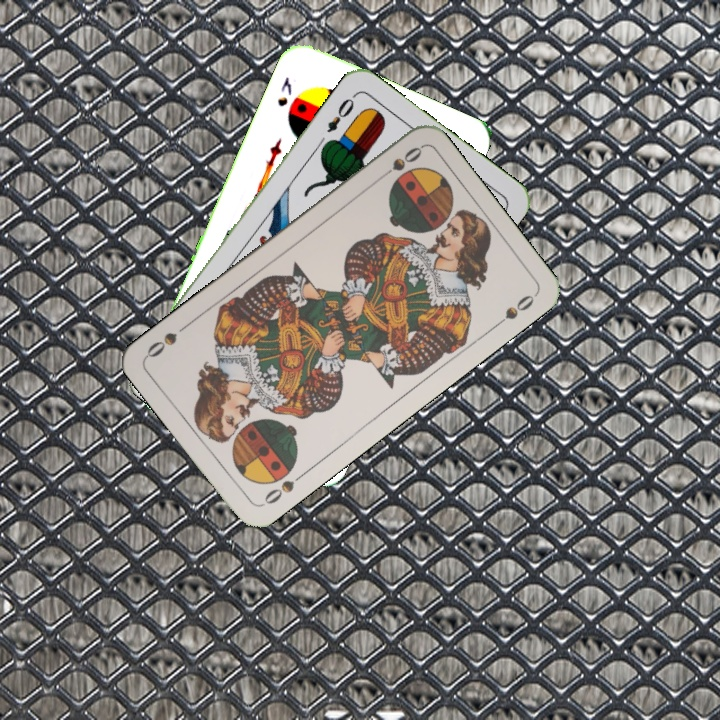EO: (323, 90, 359, 136)
SK: (273, 73, 295, 110)
SO: (373, 142, 425, 184), (257, 468, 308, 509)
